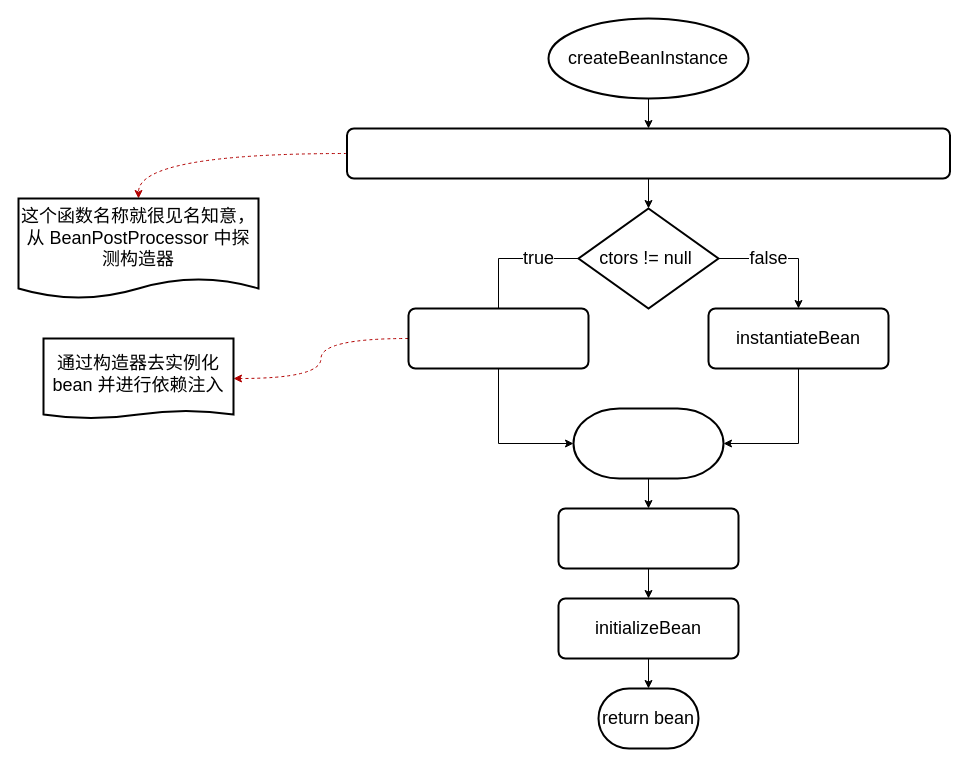
This 968x766 diagram has some shape labels left out. The shapes that lost their labels are listed below. From the top down, each one's centre as x and y in pixels, then its label:
At (x=648, y=153): "Constructor<?>[] ctors = determineConstructorsFromBeanPostProcessors".
At (x=498, y=338): "autowireConstructor".
At (x=648, y=443): "return BeanWrapper".
At (x=648, y=538): "populateBean".
